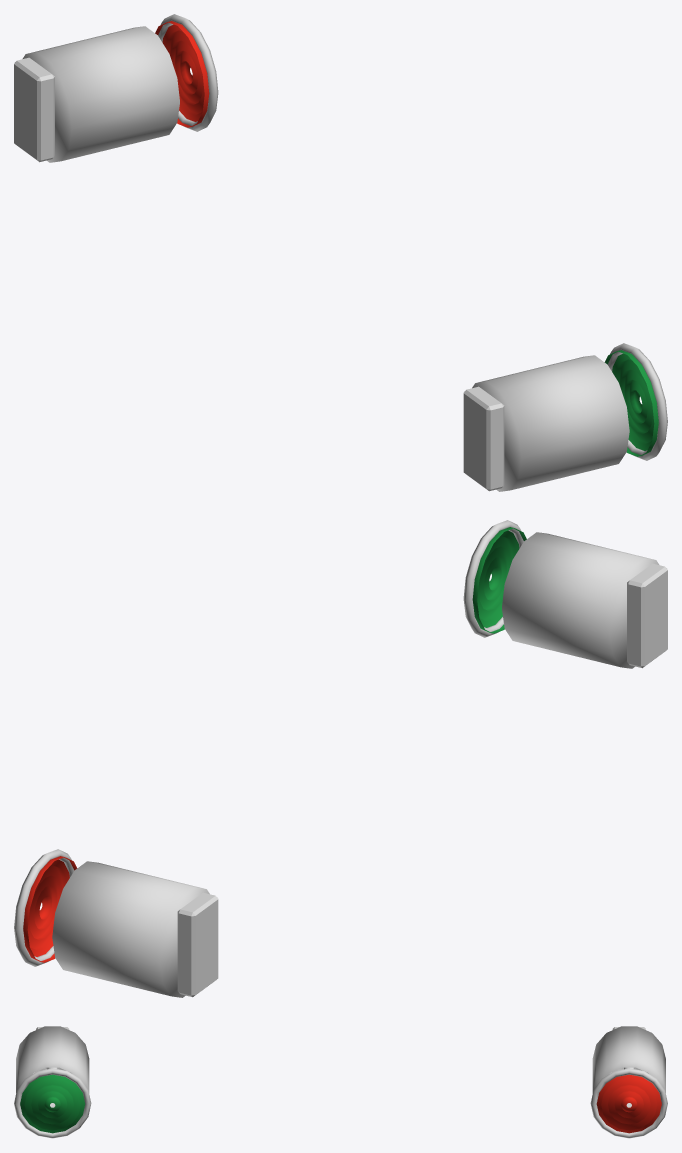
Rendered from sidelights.fbx.
3 views of the same model, one above another, from view 1: azimuth 30°, elevation 25°; view 2: azimuth 150°, elevation 25°; view 3: azimuth 270°, elevation 25° (orthographic). The views are drawn at different scales.
Parts seen in each view (by area): view 1: Sidelights; view 2: Sidelights; view 3: Sidelights.
Boxes of the visible parts, x1=… form: Sidelights: x1=14, y1=14, x2=667, y2=491; Sidelights: x1=14, y1=520, x2=667, y2=997; Sidelights: x1=14, y1=1026, x2=667, y2=1138.
Size of the model in its own units: 18.5 by 11.6 by 98.03.
